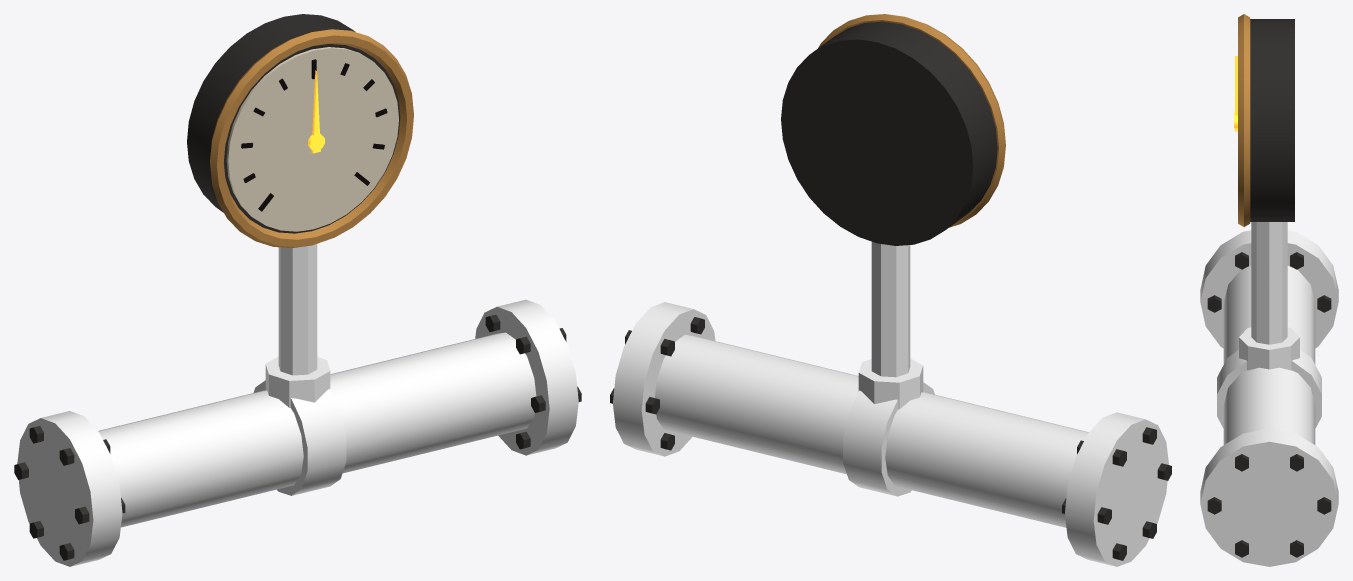
The model's file is PipeGauge.glb.
3 renders of one model, left to right at view 1: azimuth 30°, elevation 25°; view 2: azimuth 150°, elevation 25°; view 3: azimuth 270°, elevation 25°, orthographic. The views are drawn at different scales.
Visible parts, largest first — view 1: PipeGauge_Pipe, PipeGauge_GaugeFace, PipeGauge_GaugeRim, PipeGauge_Gauge, PipeGauge_Bolts, PipeGauge_GaugeTicks; view 2: PipeGauge_Pipe, PipeGauge_Gauge, PipeGauge_GaugeRim, PipeGauge_Bolts; view 3: PipeGauge_Pipe, PipeGauge_Gauge, PipeGauge_GaugeRim, PipeGauge_Bolts, PipeGauge_GaugeNeedle.
Boxes of the visible parts, <box> form: PipeGauge_Pipe: <box>17,244,578,566</box>; PipeGauge_GaugeFace: <box>226,47,398,231</box>; PipeGauge_GaugeRim: <box>210,29,413,248</box>; PipeGauge_Gauge: <box>187,14,400,233</box>; PipeGauge_Bolts: <box>14,314,581,560</box>; PipeGauge_GaugeTicks: <box>241,59,387,211</box>; PipeGauge_Pipe: <box>613,241,1168,566</box>; PipeGauge_Gauge: <box>781,21,997,245</box>; PipeGauge_GaugeRim: <box>818,14,1005,227</box>; PipeGauge_Bolts: <box>610,317,1171,560</box>; PipeGauge_Pipe: <box>1200,222,1338,566</box>; PipeGauge_Gauge: <box>1250,19,1294,221</box>; PipeGauge_GaugeRim: <box>1238,14,1250,226</box>; PipeGauge_Bolts: <box>1207,252,1331,557</box>; PipeGauge_GaugeNeedle: <box>1234,56,1237,131</box>.
Size of the model in its own units: 0.514 by 0.473 by 0.136.
